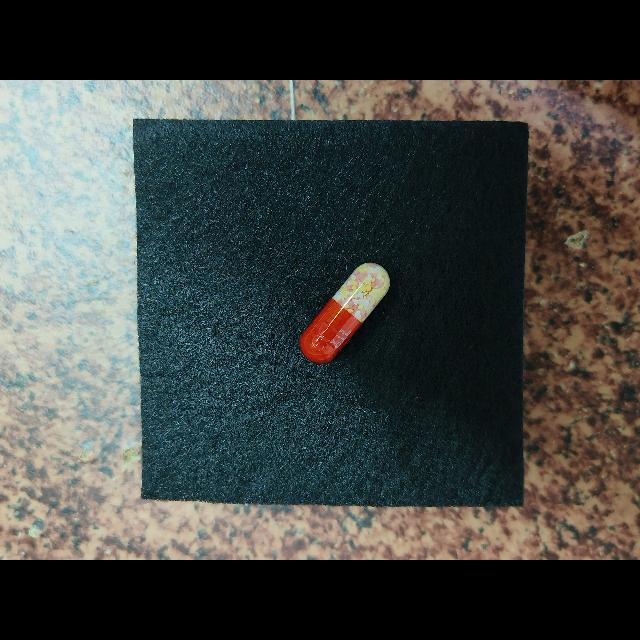Intact Capsule: (300, 263, 390, 364)
